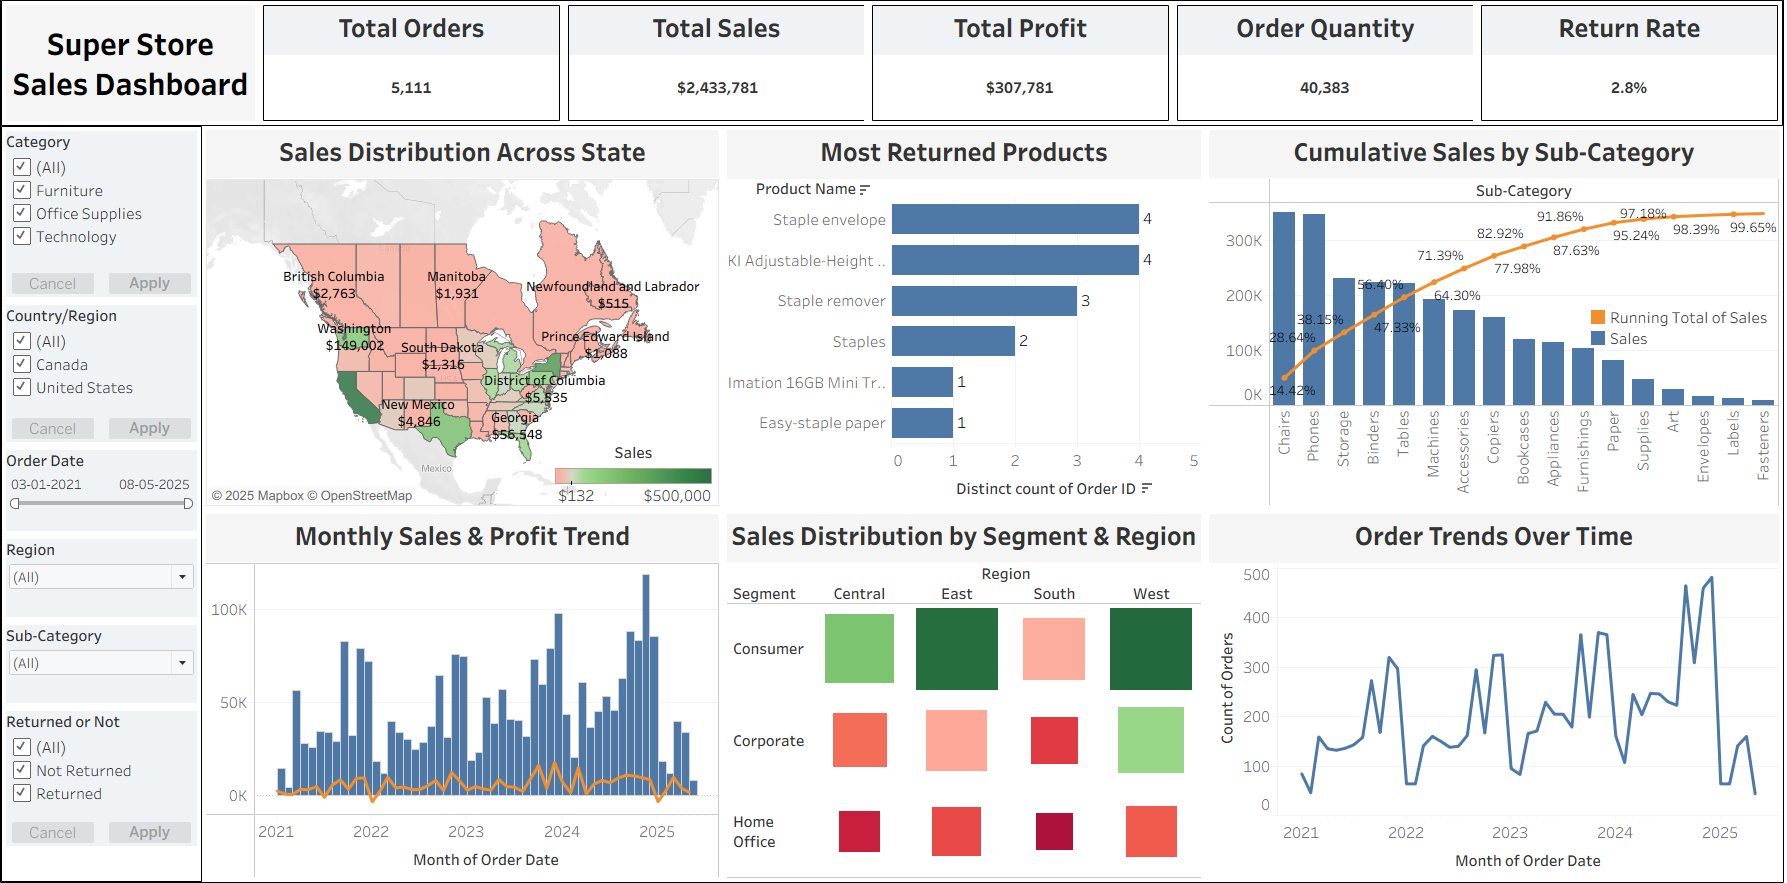

What the dashboard file says about the page in this screenshot:
{"tool":"tableau","page":{"name":"Sales Dashboard","canvas":[1800,900],"ordinal":0},"visuals":[{"type":"text","box":[10,10,257,124]},{"type":"worksheet","title":"Total Orders","mark":"Automatic","box":[267,10,304.6,124]},{"type":"worksheet","title":"Total Sales","mark":"Automatic","box":[571.6,10,304.6,124]},{"type":"worksheet","title":"Total Profit","mark":"Automatic","box":[876.2,10,304.6,124]},{"type":"worksheet","title":"Order Quantity","mark":"Automatic","box":[1180.8,10,304.6,124]},{"type":"worksheet","title":"Return Rate","mark":"Automatic","box":[1485.4,10,304.6,124]},{"type":"worksheet","title":"Sales Distribution Across State","mark":"Automatic","box":[210,135,521,384]},{"type":"worksheet","title":"Most Returned Products","mark":"Automatic","rows":["Product Name"],"cols":["Order ID"],"box":[731,135,482,384]},{"type":"worksheet","title":"Cumulative Sales by Sub-Category","mark":"Automatic","rows":["Sales","Sales"],"cols":["Sub-Category"],"box":[1213,135,578,384]},{"type":"filter","title":"Sales Distribution Across State","param":"[federated.1p1eaxs1nah42c1g7ri7p0cjmwd2].[none:Category:nk]","box":[10,136,199,174]},{"type":"legend","title":"Cumulative Sales by Sub-Category","param":"[federated.1p1eaxs1nah42c1g7ri7p0cjmwd2].[:Measure Names]","box":[1596,294,185,64]},{"type":"filter","title":"Sales Distribution Across State","param":"[federated.1p1eaxs1nah42c1g7ri7p0cjmwd2].[none:Country/Region:nk]","box":[10,310,199,145]},{"type":"legend","title":"Sales Distribution Across State","param":"[federated.1p1eaxs1nah42c1g7ri7p0cjmwd2].[sum:Sales:qk]","box":[559,451,165,61]},{"type":"filter","title":"Sales Distribution Across State","param":"[federated.1p1eaxs1nah42c1g7ri7p0cjmwd2].[none:Order Date:qk]","box":[10,455,199,89]},{"type":"worksheet","title":"Monthly Sales & Profit Trend","mark":"Line","rows":["Sales","Profit"],"cols":["Order Date"],"box":[210,519,521,372]},{"type":"worksheet","title":"Sales Distribution by Segment & Region","mark":"Automatic","rows":["Segment"],"cols":["Region"],"box":[731,519,482,372]},{"type":"worksheet","title":"Order Trends Over Time","mark":"Automatic","rows":["Orders_04A70185CE234E4BA7668DA5B4230A40"],"cols":["Order Date"],"box":[1213,519,578,372]},{"type":"filter","title":"Sales Distribution Across State","param":"[federated.1p1eaxs1nah42c1g7ri7p0cjmwd2].[none:Region:nk]","box":[10,544,199,86]},{"type":"filter","title":"Sales Distribution Across State","param":"[federated.1p1eaxs1nah42c1g7ri7p0cjmwd2].[none:Sub-Category:nk]","box":[10,630,199,86]},{"type":"filter","title":"Sales Distribution Across State","param":"[federated.1p1eaxs1nah42c1g7ri7p0cjmwd2].[none:Calculation_1024850426949087233:n","box":[10,716,199,143]}]}

Visuals, with their boxes in screenshot pixels (x1, y1, x2, y2), scaled from the page's 1800x900 canvas onto the 1787x883 screenshot:
text: box(10, 10, 265, 131)
"Total Orders" worksheet: box(265, 10, 567, 131)
"Total Sales" worksheet: box(567, 10, 870, 131)
"Total Profit" worksheet: box(870, 10, 1172, 131)
"Order Quantity" worksheet: box(1172, 10, 1475, 131)
"Return Rate" worksheet: box(1475, 10, 1777, 131)
"Sales Distribution Across State" worksheet: box(208, 132, 726, 509)
"Most Returned Products" worksheet: box(726, 132, 1204, 509)
"Cumulative Sales by Sub-Category" worksheet: box(1204, 132, 1778, 509)
"Sales Distribution Across State" filter: box(10, 133, 207, 304)
"Cumulative Sales by Sub-Category" legend: box(1584, 288, 1768, 351)
"Sales Distribution Across State" filter: box(10, 304, 207, 446)
"Sales Distribution Across State" legend: box(555, 442, 719, 502)
"Sales Distribution Across State" filter: box(10, 446, 207, 534)
"Monthly Sales & Profit Trend" worksheet (Line marks): box(208, 509, 726, 874)
"Sales Distribution by Segment & Region" worksheet: box(726, 509, 1204, 874)
"Order Trends Over Time" worksheet: box(1204, 509, 1778, 874)
"Sales Distribution Across State" filter: box(10, 534, 207, 618)
"Sales Distribution Across State" filter: box(10, 618, 207, 702)
"Sales Distribution Across State" filter: box(10, 702, 207, 843)
